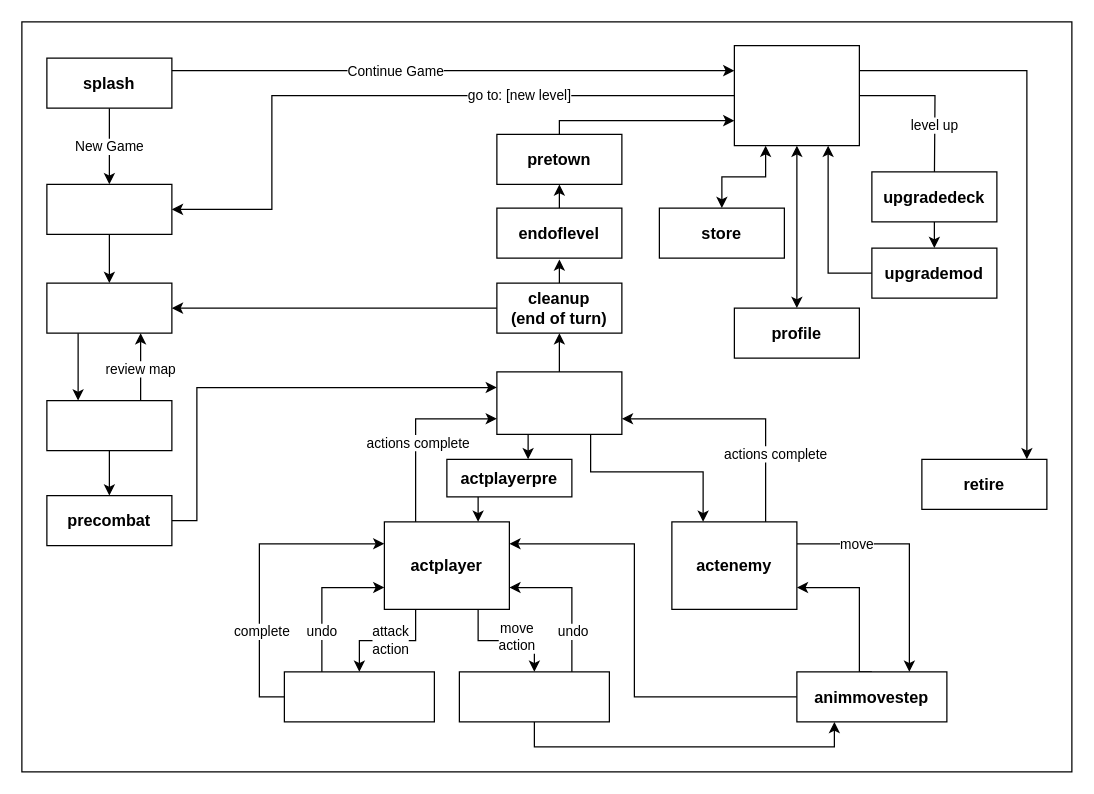
Image size: 1094x794. Some labels were removed from this diagram. The shapes that lost their labels are listed below. From the top down, each one's centre as x and y in pixels, then its label:
At (x=796, y=95): "town".
At (x=109, y=208): "newlevel".
At (x=109, y=307): "newturn".
At (x=559, y=402): "actloop".
At (x=109, y=425): "choosecards".
At (x=358, y=696): "actplayerattack".
At (x=533, y=696): "actplayermove".
